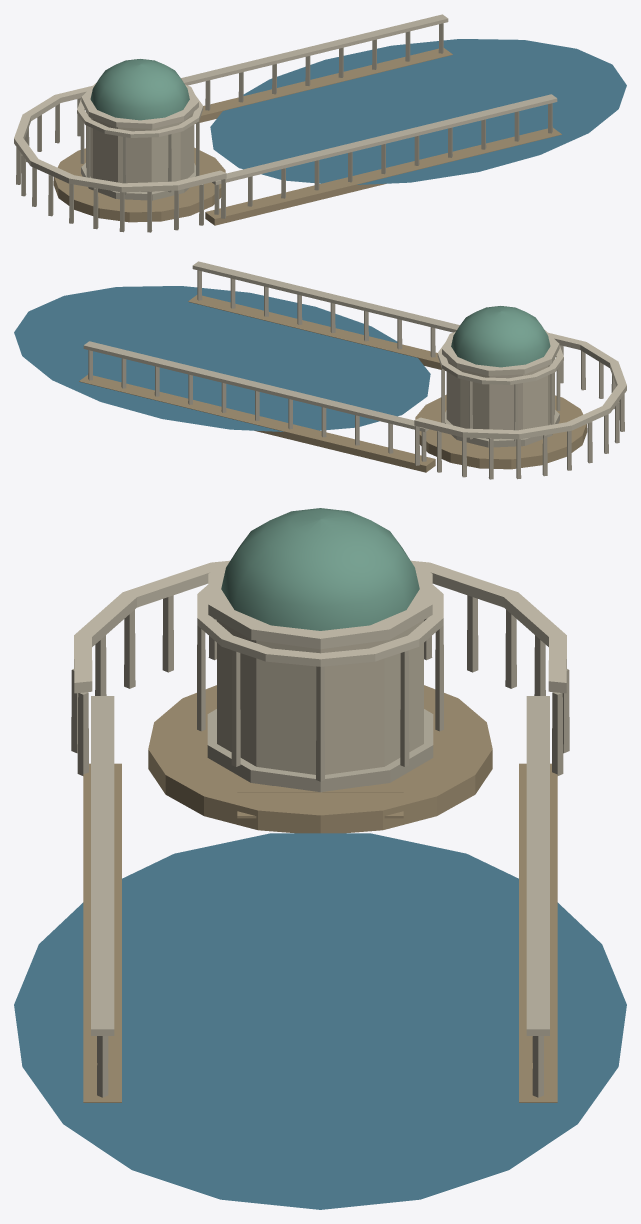
File: mobile.glb
3 views of the same model, one above another, from view 1: azimuth 30°, elevation 25°; view 2: azimuth 150°, elevation 25°; view 3: azimuth 270°, elevation 25° (orthographic). The views are drawn at different scales.
Parts seen in each view (by area): view 1: lm.palace-fine-arts; view 2: lm.palace-fine-arts; view 3: lm.palace-fine-arts.
Part boxes in pixels (x1,y1,x2,y2): lm.palace-fine-arts: (14, 14, 626, 232); lm.palace-fine-arts: (14, 261, 626, 479); lm.palace-fine-arts: (14, 508, 626, 1209).
Size of the model in its own units: 209 by 41.8 by 95.67.
